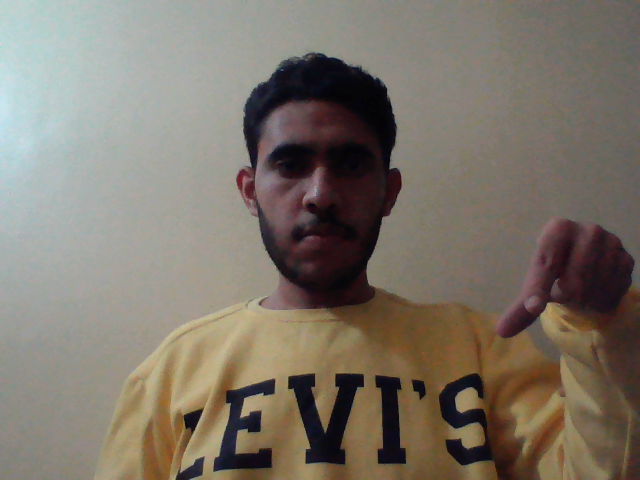Q: (491, 213, 634, 347)
